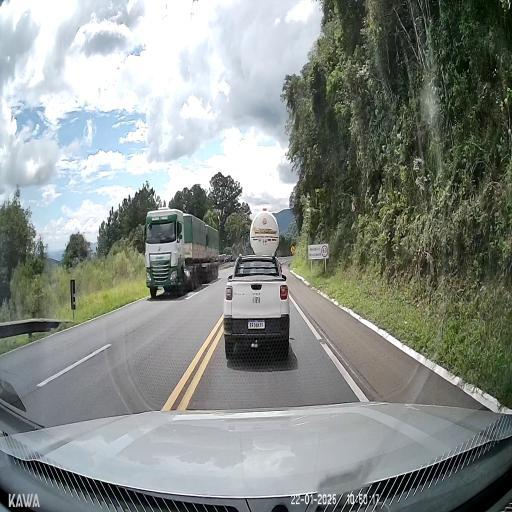R-19: (321, 246, 328, 258)
